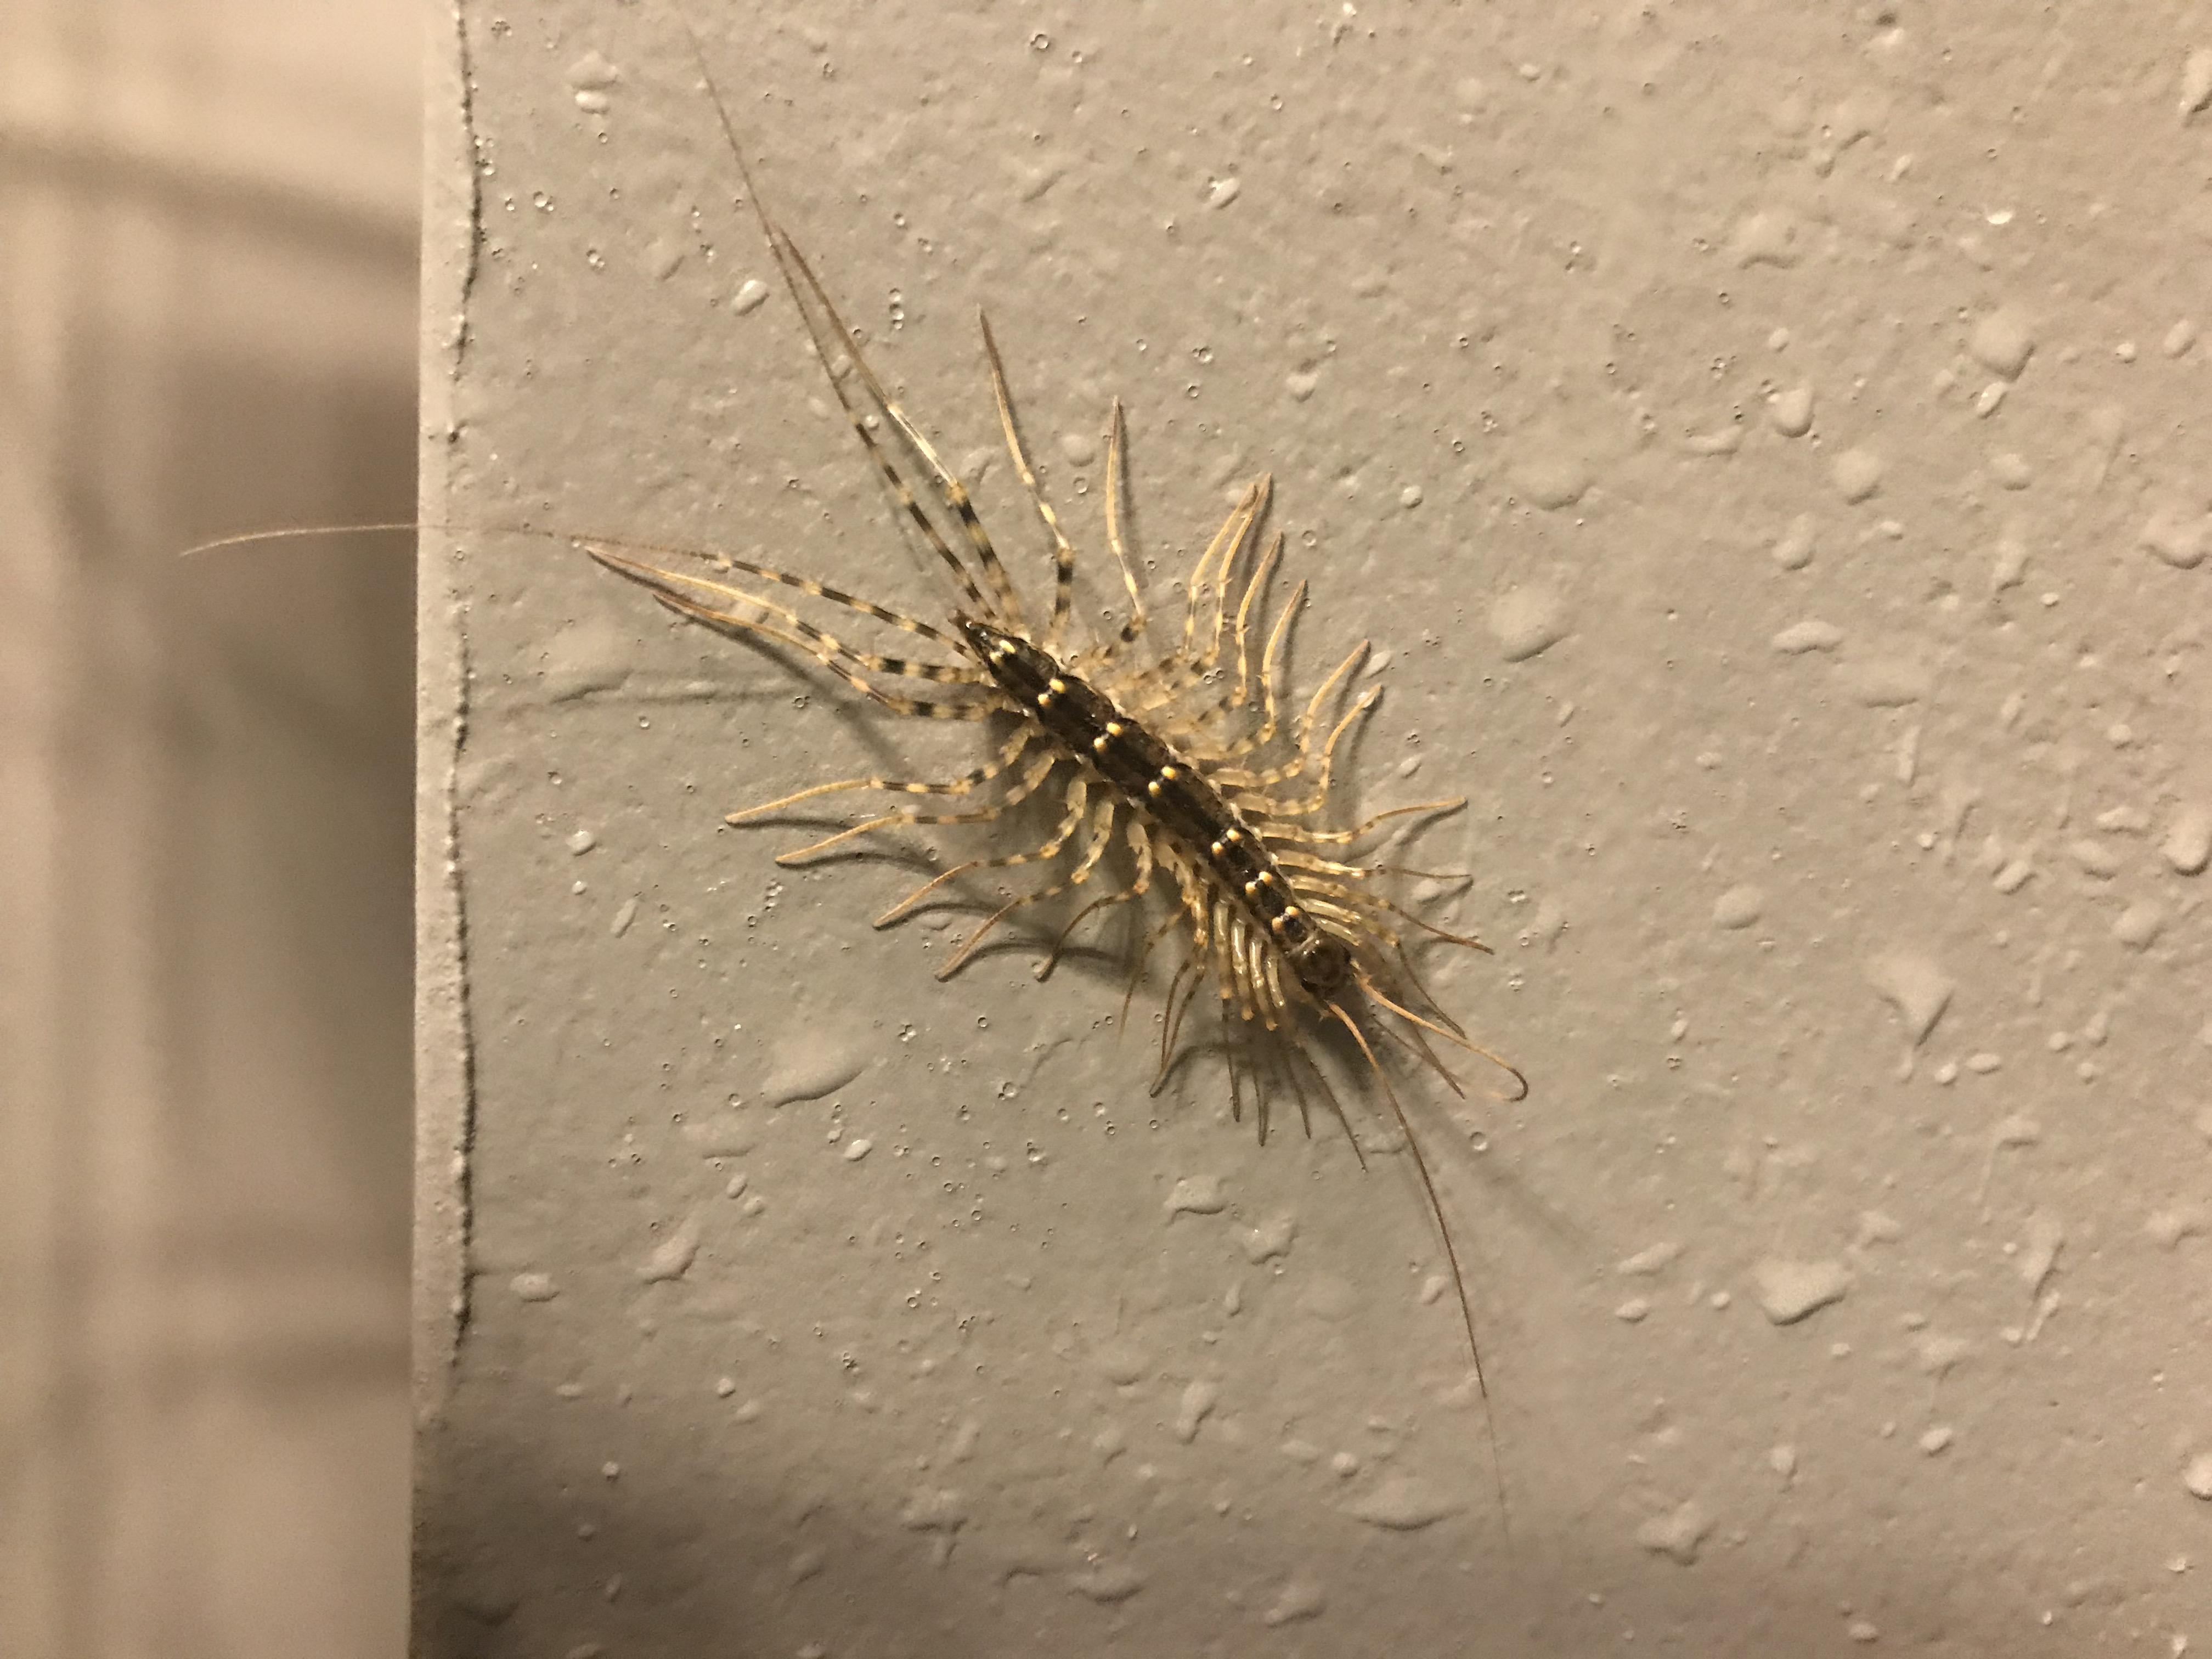centipede: (570, 227, 1548, 1222)
